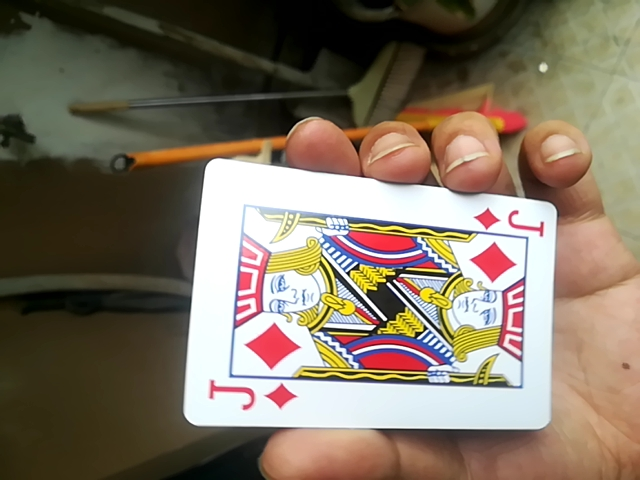fk j: (181, 162, 552, 431)
